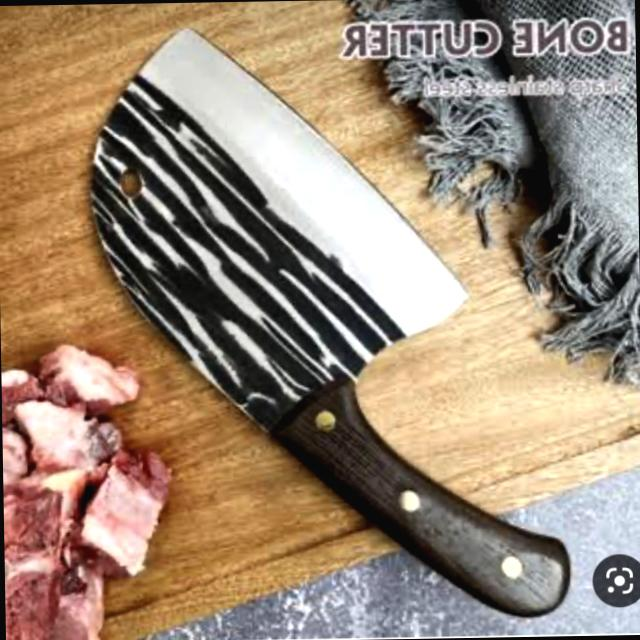knife: (15, 10, 595, 637)
